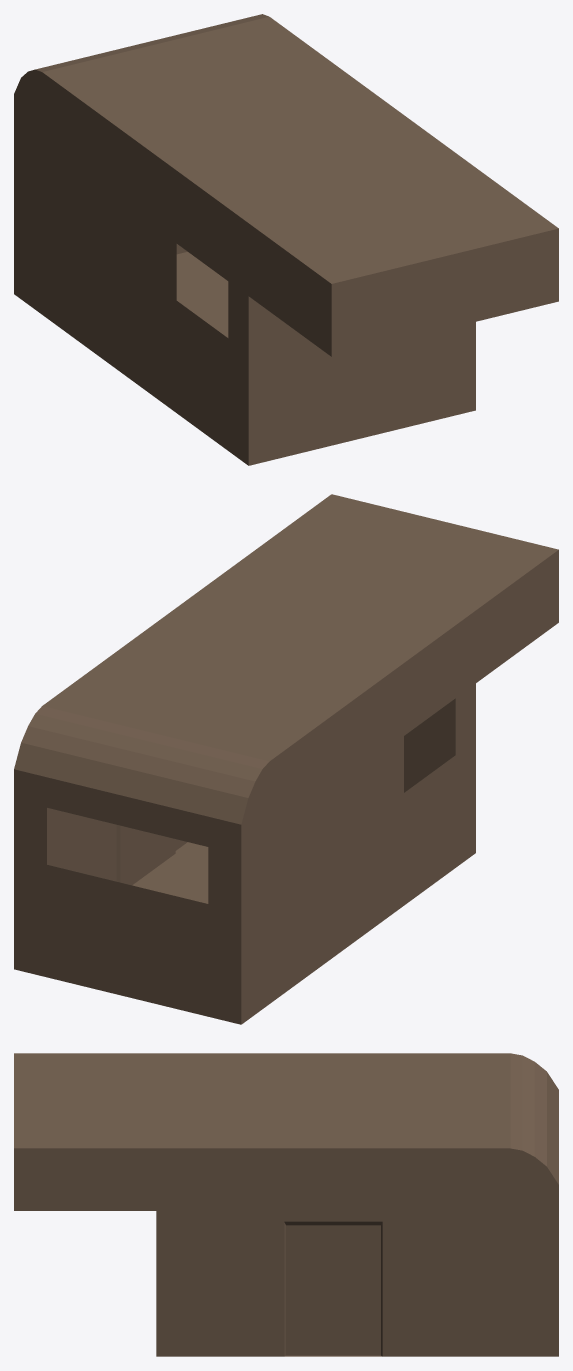
Rendered from VanCabin.fbx.
3 renders of one model, top to bottom at view 1: azimuth 30°, elevation 25°; view 2: azimuth 150°, elevation 25°; view 3: azimuth 270°, elevation 25°, orthographic. The views are drawn at different scales.
Visible parts, largest first — view 1: Cube.002; view 2: Cube.002; view 3: Cube.002.
Boxes of the visible parts, x1,y1,x2,y2 form: Cube.002: [14, 14, 558, 465]; Cube.002: [14, 494, 558, 1024]; Cube.002: [14, 1053, 558, 1356].
Bounding box in the file's own units: 714 × 301 × 295.
